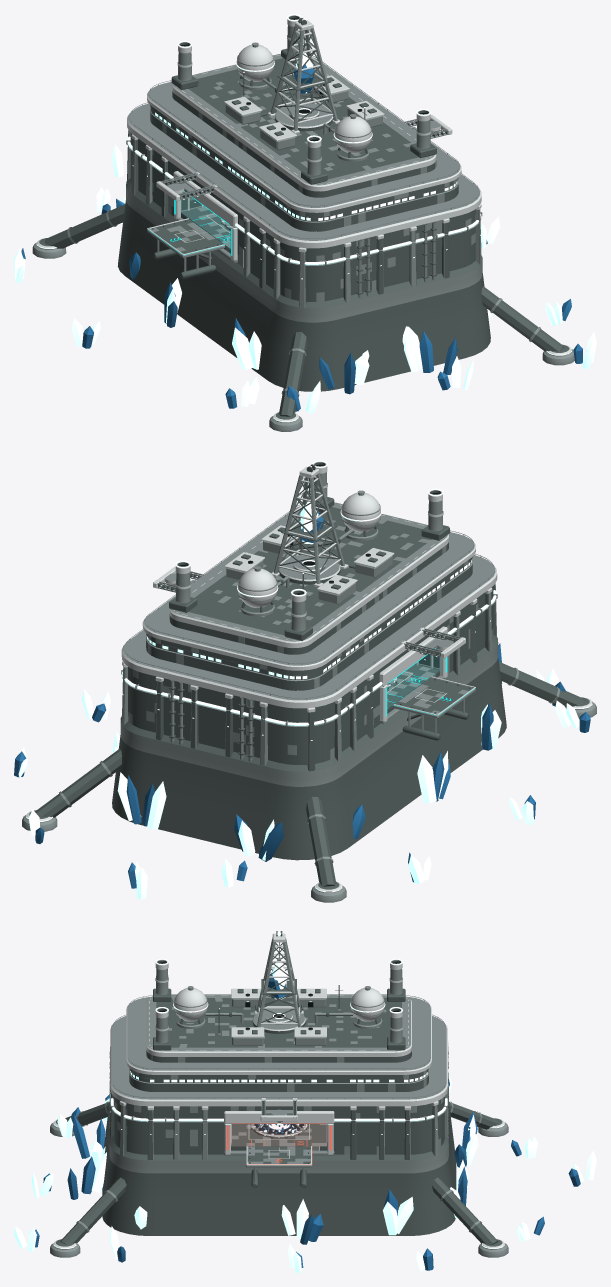
Rendered from mineradora.glb.
The picture shows the model from 3 angles, top to bottom: view 1: azimuth 30°, elevation 25°; view 2: azimuth 150°, elevation 25°; view 3: azimuth 270°, elevation 25°; orthographic projection. The views are drawn at different scales.
Parts seen in each view (by area): view 1: mineradora_casco, mineradora_fundo, mineradora_conves, mineradora_he3; view 2: mineradora_casco, mineradora_fundo, mineradora_conves, mineradora_he3; view 3: mineradora_casco, mineradora_fundo, mineradora_conves, mineradora_he3.
Part boxes in pixels (box(x1,y1,x2,y2)): mineradora_casco: box(117, 53, 490, 391); mineradora_fundo: box(14, 144, 596, 431); mineradora_conves: box(171, 15, 436, 184); mineradora_he3: box(127, 14, 481, 264); mineradora_casco: box(112, 502, 506, 860); mineradora_fundo: box(14, 643, 596, 902); mineradora_conves: box(169, 461, 449, 640); mineradora_he3: box(122, 460, 496, 725); mineradora_casco: box(102, 994, 456, 1235); mineradora_fundo: box(14, 1076, 596, 1272); mineradora_conves: box(149, 931, 408, 1050); mineradora_he3: box(110, 931, 447, 1137).
Size of the model in its own units: 312 by 210 by 408.
